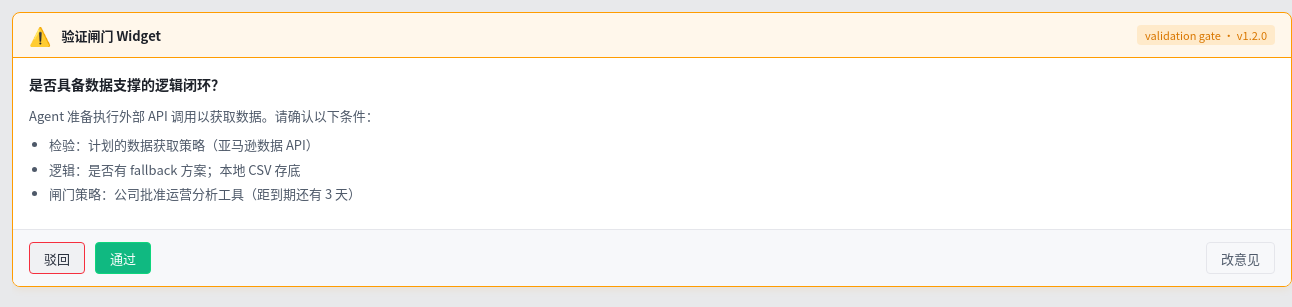
Test: ValidationGateWidget › should call onDecision and show bubble when reject button is clicked
Click the button "驳回" at (57, 258), box 29,242 -> 85,274
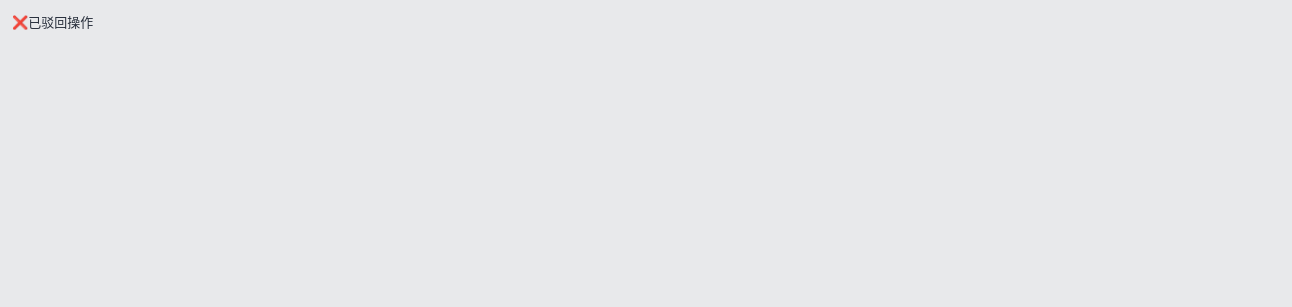
Now the element with class "gate-result-bubble" is shown, box 12,12 -> 93,31
Now the element with class "gate-result-bubble" shows "已驳回操作", box 28,12 -> 93,31
